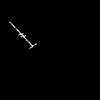treble_crochet: (12, 24, 35, 46)
